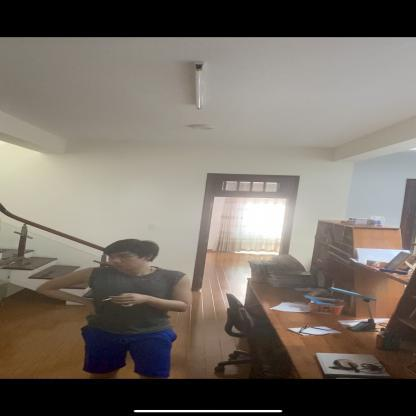cigarette: (101, 298, 113, 301)
person: (62, 238, 194, 379)
